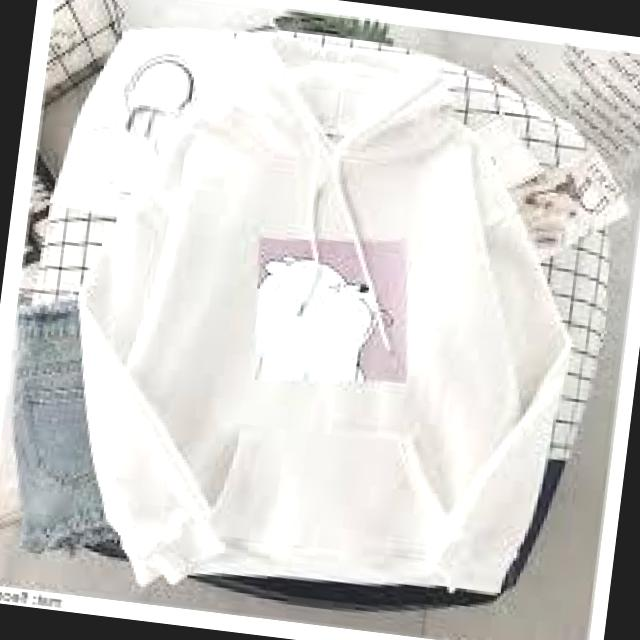sweater: (74, 30, 600, 603)
